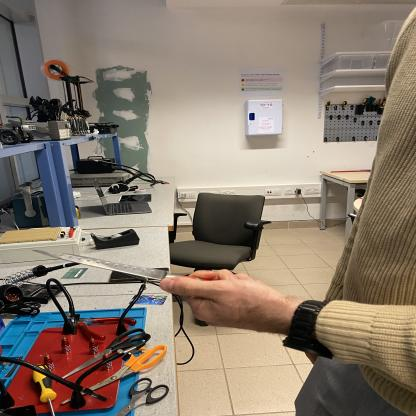Knife: (164, 0, 416, 415), (33, 249, 237, 298)
scissors: (59, 339, 167, 406), (60, 328, 151, 380), (114, 377, 168, 416)
